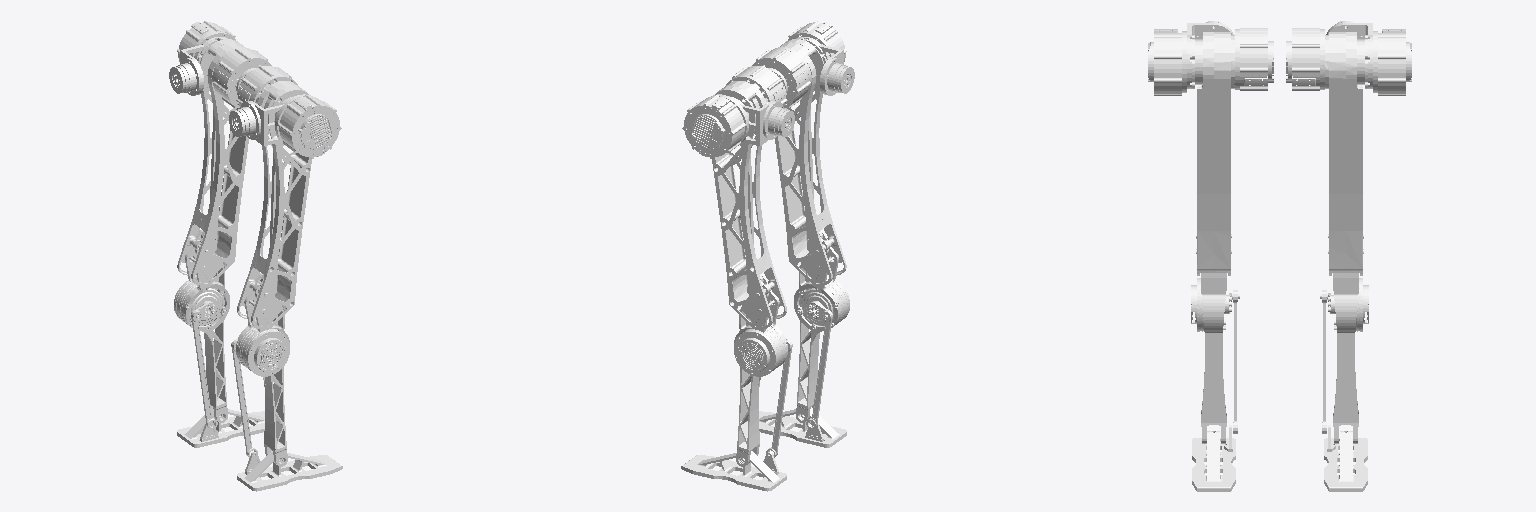
The robot description file, URDF, robot "assembled":
<?xml version="1.0" encoding="utf-8"?>
<!-- This URDF was automatically created by SolidWorks to URDF Exporter! Originally created by [author] ([email redacted]) 
     Commit Version: 1.6.0-4-g7f85cfe  Build Version: 1.6.7995.38578
     For more information, please see http://wiki.ros.org/sw_urdf_exporter -->
<robot
  name="assembled">
   <mujoco>
        <compiler 
        meshdir="" 
        balanceinertia="true" 
        discardvisual="false" />
  </mujoco>

  <link name="world">
  </link>
  <joint name="floating_base_joint" type="floating">
     <parent link="world"/>
     <child link="base_link"/>
  </joint>

  <link
    name="base_link">
    <inertial>
      <origin
        xyz="-0.0321720 0.0001059 0.0056909 "
        rpy="0 0 0" />
      <mass
        value="9.9781901" />
      <inertia
        ixx="0.1189662"
        ixy="-0.0001445"
        ixz="-0.0003114"
        iyy="0.1733501"
        iyz="-0.0443924"
        izz="0.1565576" />
    </inertial>
    <visual>
      <origin
        xyz="0 0 0"
        rpy="0 0 0" />
      <geometry>
        <mesh
          filename="../meshes/base_link.STL"  />
      </geometry>
      <material
        name="">
        <color
          rgba="0.75294 0.75294 0.75294 1" />
      </material>
    </visual>
    <collision>
      <origin
        xyz="0 0 0"
        rpy="0 0 0" />
      <geometry>
        <box size = "0.35 0.45 0.4" />
      </geometry>
    </collision>
    <!-- <collision>
      <origin
        xyz="0 0 0"
        rpy="0 0 0" />
      <geometry>
        <mesh
          filename="../meshes/base_link.STL"/>
      </geometry>
    </collision> -->
  </link>
  <link
    name="R_Link1">
    <inertial>
      <origin
        xyz="-0.0624613 -0.0006767 0.0881088"
        rpy="0 0 0" />
      <mass
        value="2.5547535" />
      <inertia
        ixx="0.0066497"
        ixy="-0.0015774"
        ixz="0.0000358"
        iyy="0.0050921"
        iyz="0.0000102"
        izz="0.0071971" />
    </inertial>
    <visual>
      <origin
        xyz="0 0 0"
        rpy="0 0 0" />
      <geometry>
        <mesh
          filename="../meshes/R_Link1.STL"  />
      </geometry>
      <material
        name="">
        <color
          rgba="1 1 1 1" />
      </material>
    </visual>
    <!-- <collision>
      <origin
        xyz="0 0 0"
        rpy="0 0 0" />
      <geometry>
        <mesh
          filename="../meshes/R_Link1.STL" />
      </geometry>
    </collision> -->
  </link>
  <joint
    name="R_joint1"
    type="revolute">
    <origin
      xyz="-0.087088 -0.12 -0.11"
      rpy="1.5708 0 1.5708" />
    <parent
      link="base_link" />
    <child
      link="R_Link1" />
    <axis
      xyz="0 0 1" />
    <limit
      lower="-0.209"
      upper="0.209"
      effort="20"
      velocity="60" />
  </joint>

  <link
    name="R_Link2">
    <inertial>
      <origin
        xyz="-0.0067785 -0.0794517 -0.0653408 "
        rpy="0 0 0" />
      <mass
        value="3.2229939" />
      <inertia
        ixx="0.0693527"
        ixy="0.0007097"
        ixz="0.0101552"
        iyy="0.0707462"
        iyz="-0.0053608"
        izz="0.0084789" />
    </inertial>
    <visual>
      <origin
        xyz="0 0 0"
        rpy="0 0 0" />
      <geometry>
        <mesh
          filename="../meshes/R_Link2.STL" />
      </geometry>
      <material
        name="">
        <color
          rgba="1 1 1 1" />
      </material>
    </visual>
    <!-- <collision>
      <origin
        xyz="0 0 0"
        rpy="0 0 0" />
      <geometry>
        <mesh
          filename="../meshes/R_Link2.STL" />
      </geometry>
    </collision> -->
  </link>
  <joint
    name="R_joint2"
    type="revolute">
    <origin
      xyz="-0.02725 0 0.0955"
      rpy="0 -1.5708 0" />
    <parent
      link="R_Link1" />
    <child
      link="R_Link2" />
    <axis
      xyz="0 0 -1" />
    <limit
      lower="-1.5708"
      upper="0.523"
      effort="54"
      velocity="50" />
  </joint>
  <link
    name="R_Link3">
    <inertial>
      <origin
        xyz="0.0185927 -0.1224139 0.0014511"
        rpy="0 0 0" />
      <mass
        value="1.5812025" />
      <inertia
        ixx="0.0116488"
        ixy="-0.0001053"
        ixz="-0.0006415"
        iyy="0.0112183"
        iyz="0.0006264"
        izz=" 0.0015741" />
    </inertial>
    <visual>
      <origin
        xyz="0 0 0"
        rpy="0 0 0" />
      <geometry>
        <mesh
          filename="../meshes/R_Link3.STL" />
      </geometry>
      <material
        name="">
        <color
          rgba="1 1 1 1" />
      </material>
    </visual>
    <!-- <collision>
      <origin
        xyz="0 0 0"
        rpy="0 0 0" />
      <geometry>
        <mesh
          filename="../meshes/R_Link3.STL"/>
      </geometry>
    </collision> -->
  </link>
  <joint
    name="R_joint3"
    type="revolute">
    <origin
      xyz="-0.072567 -0.41368 -0.02795"
      rpy="0 0 0" />
    <parent
      link="R_Link2" />
    <child
      link="R_Link3" />
    <axis
      xyz="0 0 -1" />
    <limit
      lower="0"
      upper="3.14"
      effort="54"
      velocity="50" />
  </joint>
  <link
    name="R_Link4">
    <inertial>
      <origin
        xyz="0.0255251 -0.0341688 -0.0002123"
        rpy="0 0 0" />
      <mass
        value="0.4002876" />
      <inertia
        ixx="0.0015207"
        ixy="-0.0000282"
        ixz="0.0000064"
        iyy="0.0002560"
        iyz="0.0000637"
        izz="0.0016307" />
    </inertial>
    <visual>
      <origin
        xyz="0 0 0"
        rpy="0 0 0" />
      <geometry>
        <mesh
          filename="../meshes/R_Link4.STL"  />
      </geometry>
      <material
        name="">
        <color
          rgba="1 1 1 1" />
      </material>
    </visual>
    <collision>
      <origin
        xyz="0 0 0"
        rpy="0 0 0" />
      <geometry>
        <mesh
          filename="../meshes/R_Link4.STL" />
      </geometry>
    </collision>
  </link>
  <joint
    name="R_joint4"
    type="revolute">
    <origin
      xyz="0.048841 -0.34663 0.0007"
      rpy="0 0 0" />
    <parent
      link="R_Link3" />
    <child
      link="R_Link4" />
    <axis
      xyz="0 0 1" />
    <limit
      lower="-0.8"
      upper="0.8"
      effort="20"
      velocity="60" />
  </joint>
  <link
    name="L_Link1">
    <inertial>
      <origin
        xyz="0.0624613 -0.0006767 0.0881088"
        rpy="0 0 0" />
      <mass
        value="2.5444971" />
      <inertia
        ixx="0.0066053"
        ixy="0.0015657"
        ixz="-0.0000312"
        iyy="0.0050709"
        iyz="0.0000112"
        izz="0.0071731" />
    </inertial>
    <visual>
      <origin
        xyz="0 0 0"
        rpy="0 0 0" />
      <geometry>
        <mesh
          filename="../meshes/L_Link1.STL" />
      </geometry>
      <material
        name="">
        <color
          rgba="1 1 1 1" />
      </material>
    </visual>
    <!-- <collision>
      <origin
        xyz="0 0 0"
        rpy="0 0 0" />
      <geometry>
        <mesh
          filename="package://assembled/meshes/L_Link1.STL" />
      </geometry>
    </collision> -->
  </link>
  <joint
    name="L_joint1"
    type="revolute">
    <origin
      xyz="-0.087088 0.12 -0.11"
      rpy="1.5708 0 1.5708" />
    <parent
      link="base_link" />
    <child
      link="L_Link1" />
    <axis
      xyz="0 0 -1" />
    <limit
      lower="-0.209"
      upper="0.209"
      effort="20"
      velocity="60" />
  </joint>

  <link
    name="L_Link2">
    <inertial>
      <origin
        xyz="-0.0067785 -0.0794517 0.0653408"
        rpy="0 0 0" />
      <mass
        value="3.2127298" />
      <inertia
        ixx="0.0692263"
        ixy="-0.0006991"
        ixz="-0.0100436"
        iyy="0.0706032"
        iyz="-0.0053649"
        izz="0.0084228" />
    </inertial>
    <visual>
      <origin
        xyz="0 0 0"
        rpy="0 0 0" />
      <geometry>
        <mesh
          filename="../meshes/L_Link2.STL"  />
      </geometry>
      <material
        name="">
        <color
          rgba="1 1 1 1" />
      </material>
    </visual>
    <!-- <collision>
      <origin
        xyz="0 0 0"
        rpy="0 0 0" />
      <geometry>
        <mesh
          filename="package://assembled/meshes/L_Link2.STL" />
      </geometry>
    </collision> -->
  </link>
  <joint
    name="L_joint2"
    type="revolute">
    <origin
      xyz="0.02725 0 0.0955"
      rpy="0 -1.5708 0" />
    <parent
      link="L_Link1" />
    <child
      link="L_Link2" />
    <axis
      xyz="0 0 -1" />
    <limit
      lower="-1.5708"
      upper="0.523"
      effort="54"
      velocity="50" />
  </joint>
  <link
    name="L_Link3">
    <inertial>
      <origin
        xyz="0.0185927 -0.1224139 -0.0014511"
        rpy="0 0 0" />
      <mass
        value="1.5817927" />
      <inertia
        ixx="0.0116906"
        ixy="0.0001054"
        ixz="0.0006459"
        iyy="0.0112605"
        iyz="0.0006256"
        izz="0.0015747" />
    </inertial>
    <visual>
      <origin
        xyz="0 0 0"
        rpy="0 0 0" />
      <geometry>
        <mesh
          filename="../meshes/L_Link3.STL" />
      </geometry>
      <material
        name="">
        <color
          rgba="1 1 1 1" />
      </material>
    </visual>
    <!-- <collision>
      <origin
        xyz="0 0 0"
        rpy="0 0 0" />
      <geometry>
        <mesh
          filename="package://assembled/meshes/L_Link3.STL" />
      </geometry>
    </collision> -->
  </link>
  <joint
    name="L_joint3"
    type="revolute">
    <origin
      xyz="-0.072567 -0.41368 0.02795"
      rpy="0 0 0" />
    <parent
      link="L_Link2" />
    <child
      link="L_Link3" />
    <axis
      xyz="0 0 -1" />
    <limit
      lower="0"
      upper="3.14"
      effort="54"
      velocity="50" />
  </joint>
  <link
    name="L_Link4">
    <inertial>
      <origin
        xyz="0.0255251 -0.0341688 0.0002123"
        rpy="0 0 0" />
      <mass
        value="0.4002876" />
      <inertia
        ixx="0.0015207"
        ixy="0.0000282"
        ixz="-0.0000064"
        iyy="0.0002560"
        iyz="0.0000637"
        izz="0.0016307" />
    </inertial>
    <visual>
      <origin
        xyz="0 0 0"
        rpy="0 0 0" />
      <geometry>
        <mesh
          filename="../meshes/L_Link4.STL" />
      </geometry>
      <material
        name="">
        <color
          rgba="1 1 1 1" />
      </material>
    </visual>
    <collision>
      <origin
        xyz="0 0 0"
        rpy="0 0 0" />
      <geometry>
        <mesh
          filename="../meshes/L_Link4.STL" />
      </geometry>
    </collision>
  </link>
  <joint
    name="L_joint4"
    type="revolute">
    <origin
      xyz="0.048841 -0.34663 -0.0007"
      rpy="0 0 0" />
    <parent
      link="L_Link3" />
    <child
      link="L_Link4" />
    <axis
      xyz="0 0 1" />
    <limit
      lower="-0.8"
      upper="0.8"
      effort="20"
      velocity="60" />
  </joint>
</robot>

--- What the picture shows (computed from the rendered views, not written in the file) ---
3 views of the same robot in one strip: view 1: azimuth 30°, elevation 25°; view 2: azimuth 150°, elevation 25°; view 3: azimuth 270°, elevation 25° (orthographic).
Robot: assembled — 10 links, 9 joints (8 revolute, 1 floating); root link world; default pose: every joint at zero.
Visible links, largest first — view 1: L_Link2, R_Link2, R_Link3, L_Link3, R_Link1, R_Link4, L_Link1, L_Link4; view 2: R_Link2, L_Link2, L_Link3, R_Link3, L_Link1, L_Link4, R_Link1, R_Link4; view 3: R_Link2, L_Link2, L_Link3, R_Link3, R_Link1, L_Link1, R_Link4, L_Link4.
Link boxes in pixels (left/top/right/bottom): L_Link2: left=177, top=39, right=271, bottom=286; R_Link2: left=236, top=65, right=311, bottom=329; R_Link3: left=231, top=290, right=289, bottom=466; L_Link3: left=174, top=247, right=229, bottom=429; R_Link1: left=229, top=94, right=341, bottom=158; R_Link4: left=237, top=451, right=342, bottom=491; L_Link1: left=169, top=21, right=235, bottom=95; L_Link4: left=177, top=407, right=264, bottom=447; R_Link2: left=752, top=39, right=846, bottom=286; L_Link2: left=712, top=65, right=787, bottom=329; L_Link3: left=734, top=290, right=792, bottom=466; R_Link3: left=794, top=247, right=849, bottom=429; L_Link1: left=682, top=94, right=794, bottom=158; L_Link4: left=681, top=451, right=786, bottom=491; R_Link1: left=788, top=21, right=854, bottom=95; R_Link4: left=759, top=407, right=846, bottom=447; R_Link2: left=1196, top=28, right=1273, bottom=275; L_Link2: left=1286, top=28, right=1363, bottom=275; L_Link3: left=1320, top=273, right=1368, bottom=443; R_Link3: left=1191, top=273, right=1239, bottom=443; R_Link1: left=1148, top=21, right=1233, bottom=95; L_Link1: left=1326, top=21, right=1411, bottom=95; R_Link4: left=1192, top=425, right=1235, bottom=491; L_Link4: left=1324, top=425, right=1367, bottom=491.
Bounding box of the posed robot: 0.2305 × 0.478 × 0.8715 m (x, y, z).
Meshes: 9 distinct files referenced, 8 mesh visuals loaded (8 binary STL); not drawn: 1 (reference not matched to a file when rendering).